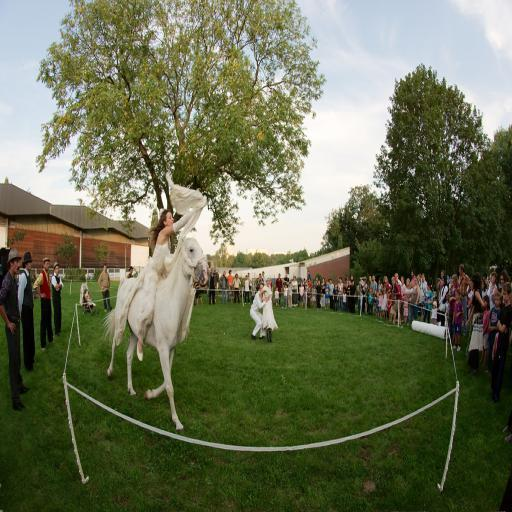horse: (100, 232, 210, 436)
